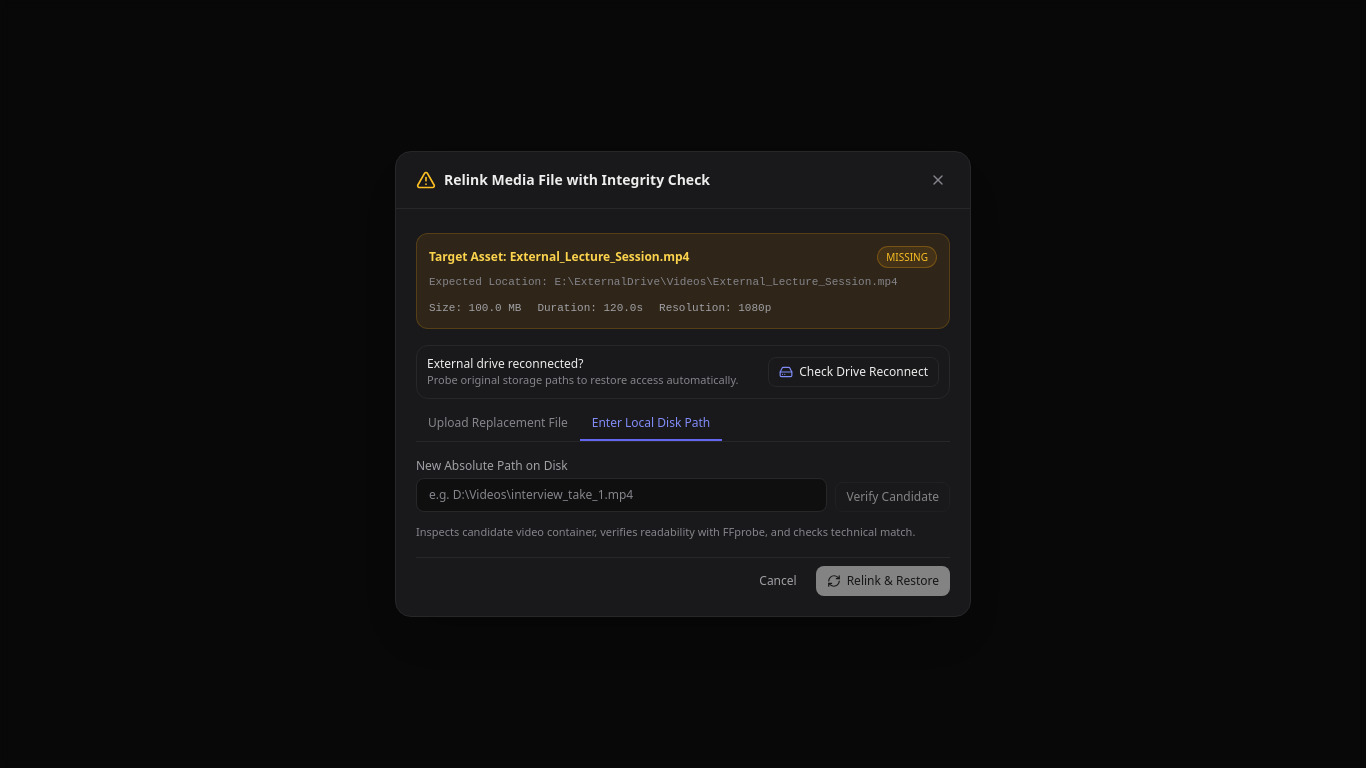
it: P1.7 Media Relinking, Missing File Recovery & External Media Handling › supports streaming replacement video file upload relinking in MediaRelinkModal
Later steps or results of the test are not shown.
Click the button "Upload Replacement File" at (498,428), box [416,415,580,441]
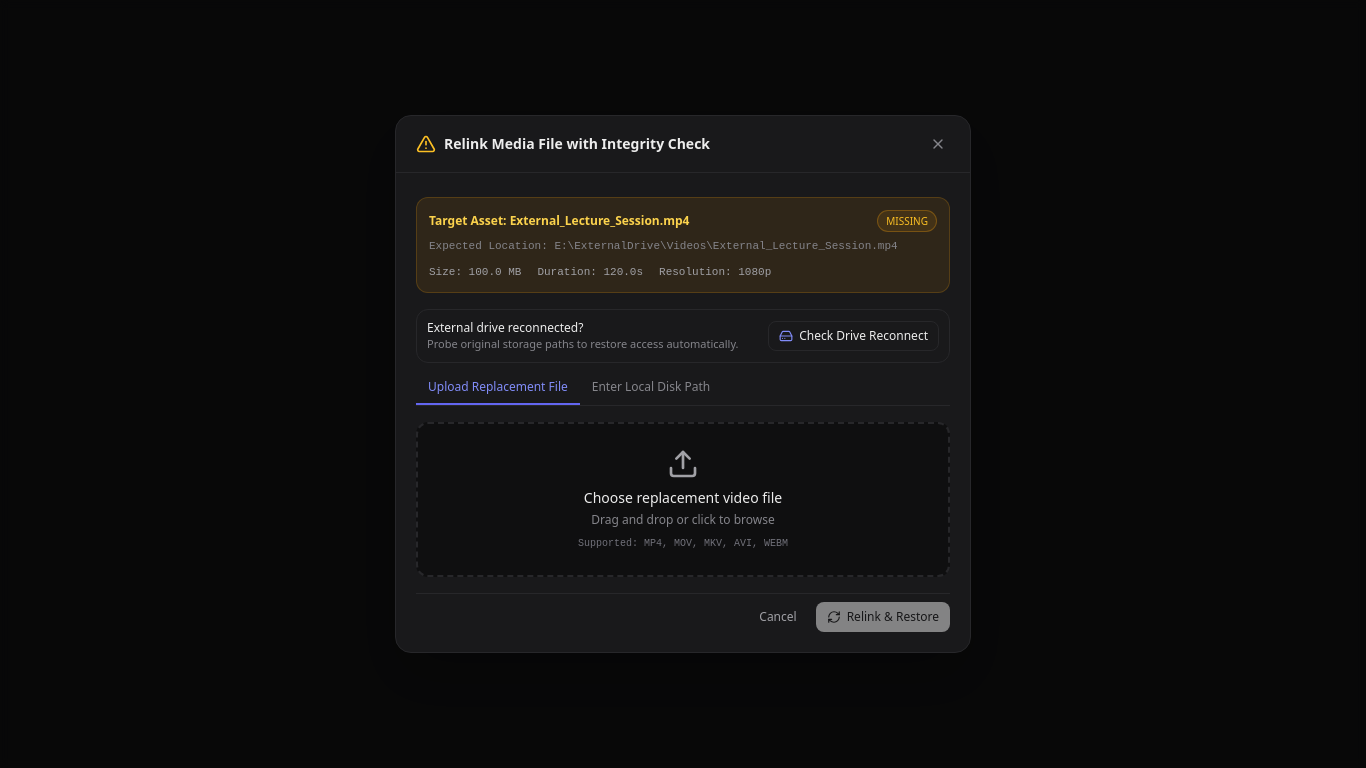
Check: the text "Choose replacement video file" is shown, box [584,488,782,508]
